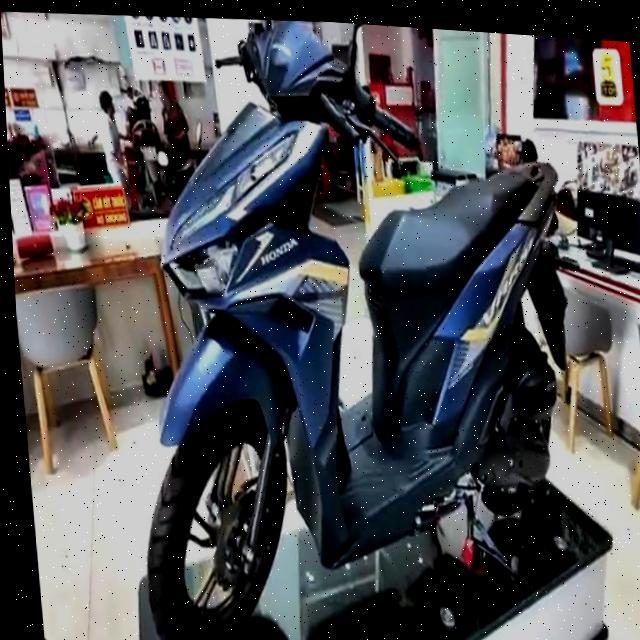motorcycle: (95, 6, 603, 640)
